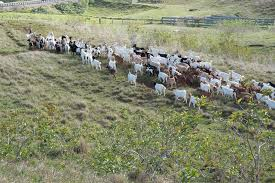sheep: (170, 86, 188, 105), (131, 46, 148, 65), (193, 56, 210, 73), (249, 90, 268, 105), (146, 55, 163, 71), (152, 81, 168, 97), (105, 62, 120, 78), (196, 77, 210, 93), (105, 44, 119, 60), (182, 55, 196, 70), (166, 63, 179, 79), (228, 66, 241, 82), (127, 70, 139, 87), (64, 41, 78, 55), (210, 67, 224, 81), (93, 45, 107, 59), (89, 56, 101, 72), (216, 84, 232, 96), (80, 50, 92, 65), (188, 93, 199, 109), (251, 76, 263, 90), (133, 41, 144, 54), (61, 34, 75, 44), (132, 62, 143, 74), (35, 38, 45, 49), (32, 31, 44, 40), (24, 37, 34, 47), (51, 40, 59, 52)
